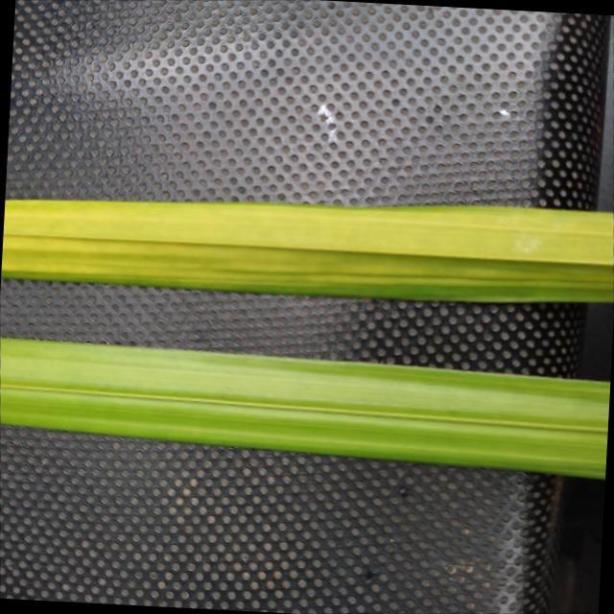nitrogen: (0, 332, 614, 483), (5, 189, 614, 305)
